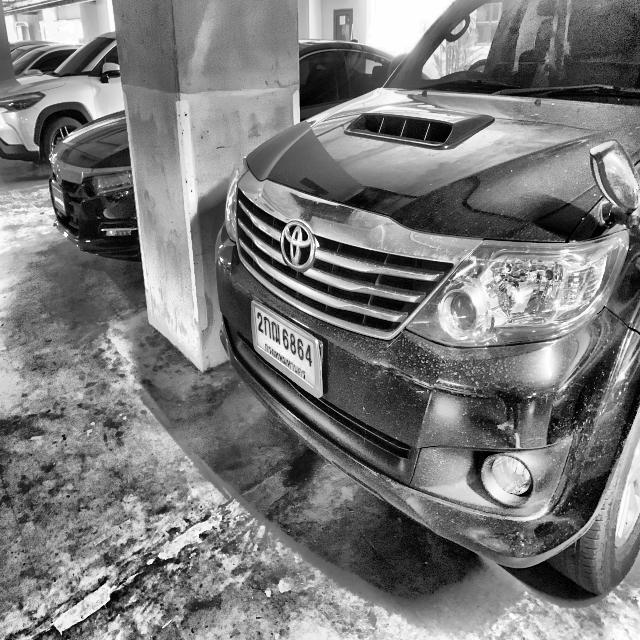license-plate: (248, 297, 324, 401), (50, 181, 68, 217)
